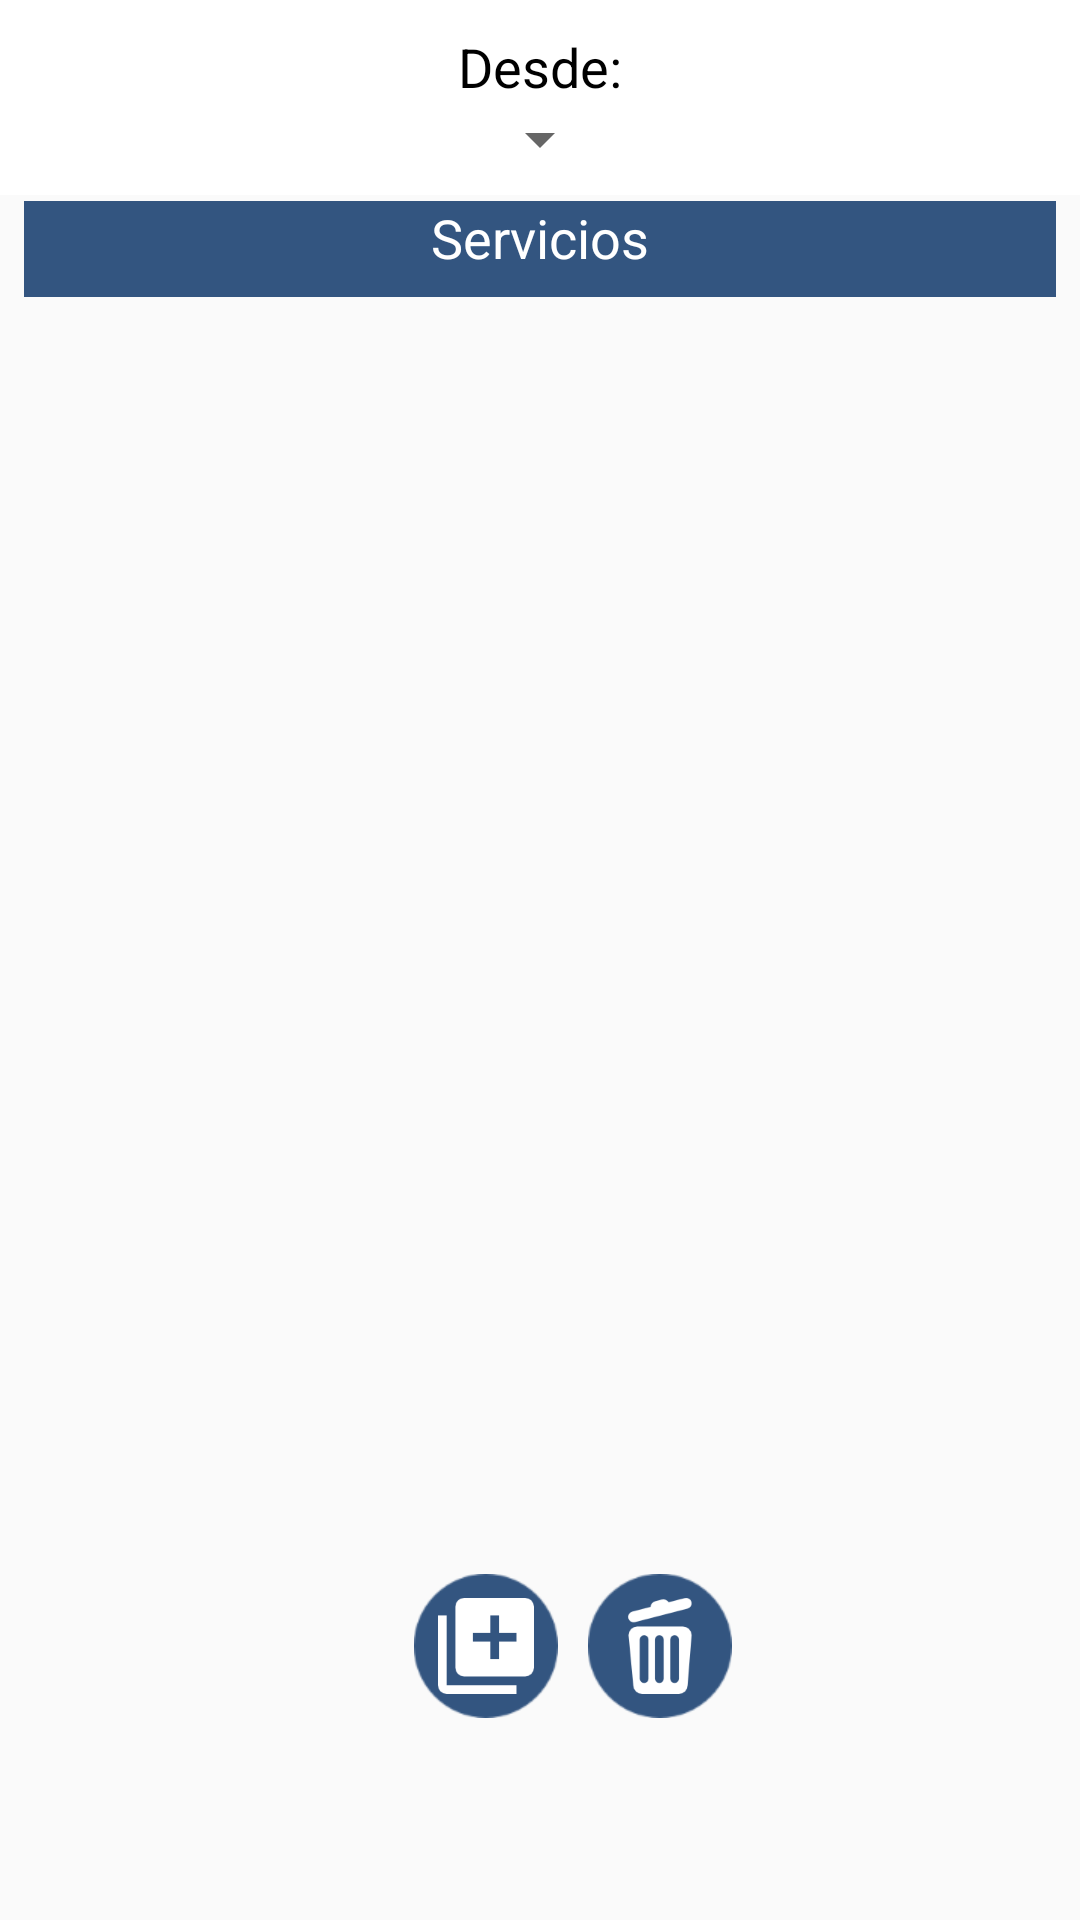

Named icons in this screenshot (1080 x 1920) and their centers, (x,y):
anadir: (486,1646)
basura: (660,1646)
